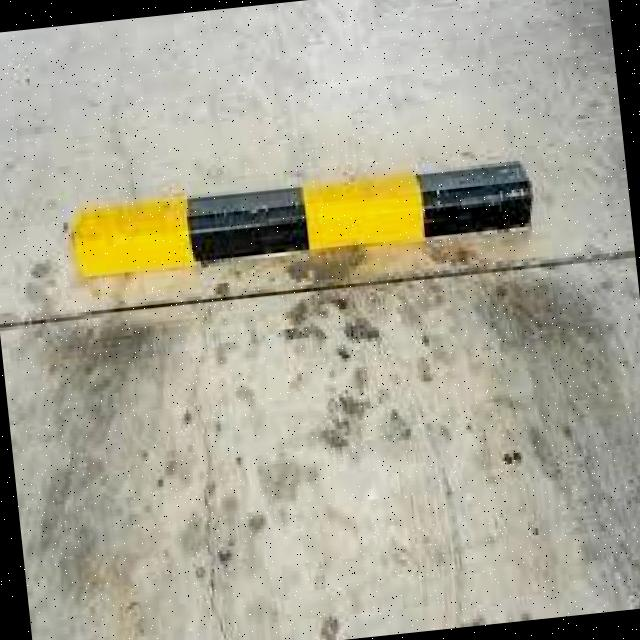curb: (72, 167, 545, 275)
